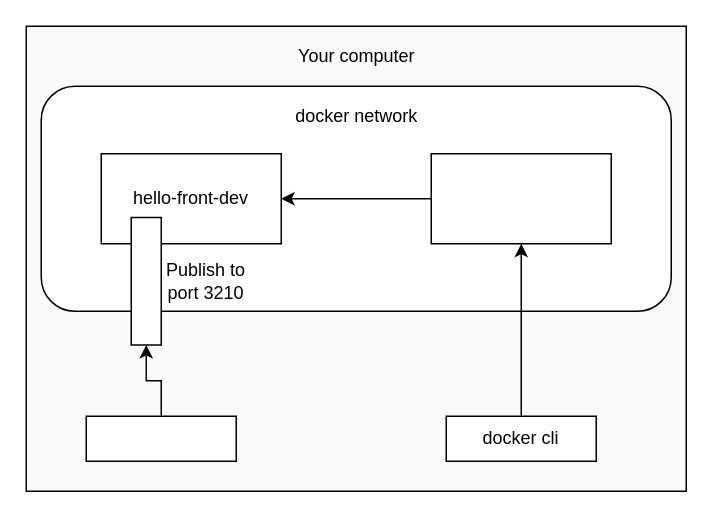
Some shapes in this 713 by 518 pixel diagram are drawn without their labels. The centre of each missing label's shape, as x and y in pixels:
browser: pixel 160 438
debug-helper: pixel 520 198
